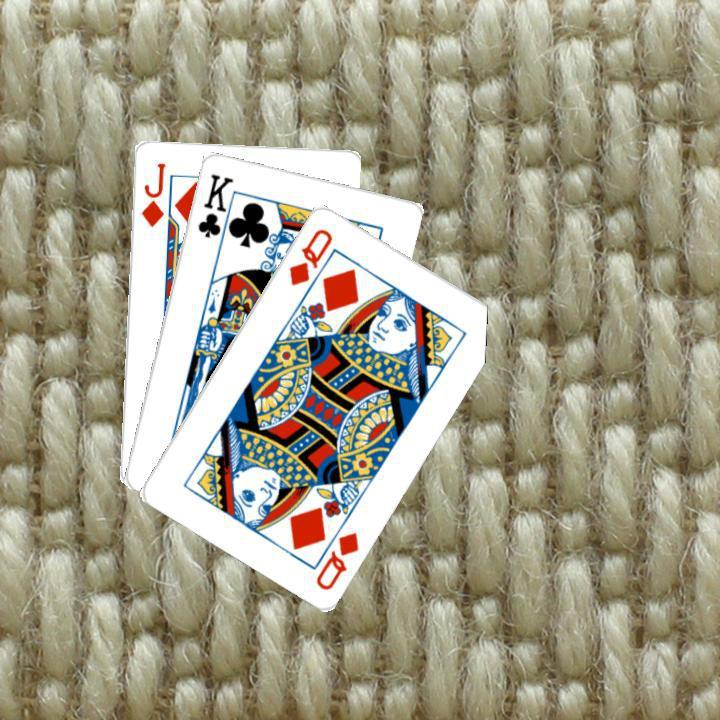J: (136, 158, 167, 229)
K: (193, 169, 239, 249)
Q: (284, 223, 335, 288), (311, 527, 361, 592)
